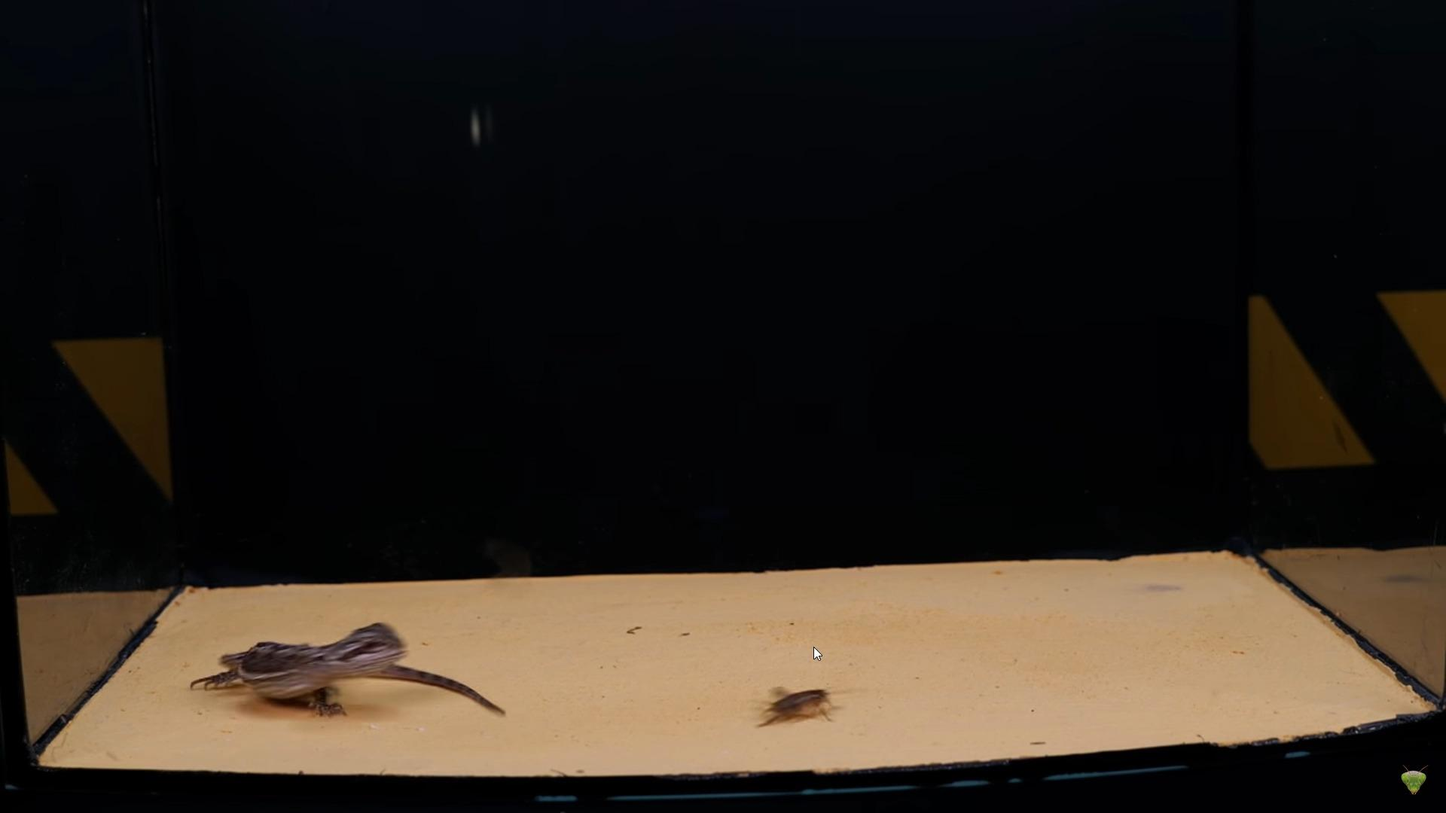cockroach: (752, 679, 838, 733)
lizard: (216, 615, 503, 723)
